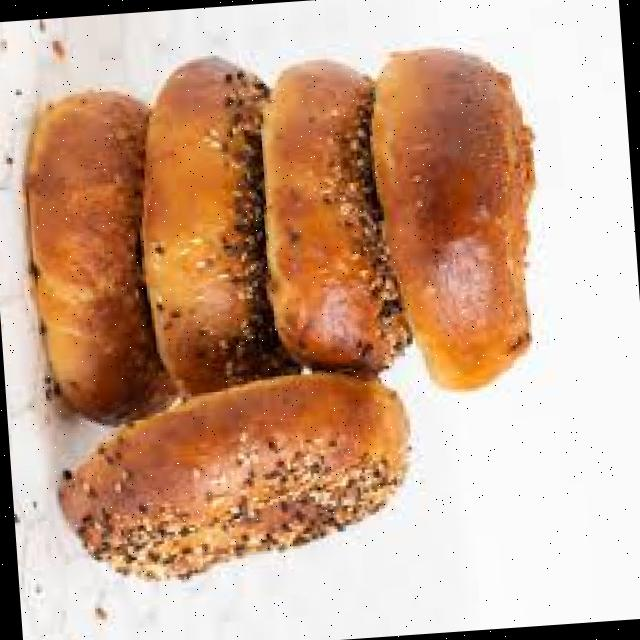Bagel: (60, 373, 407, 580), (372, 50, 531, 390), (143, 58, 298, 394), (26, 92, 176, 424), (263, 63, 410, 371)
